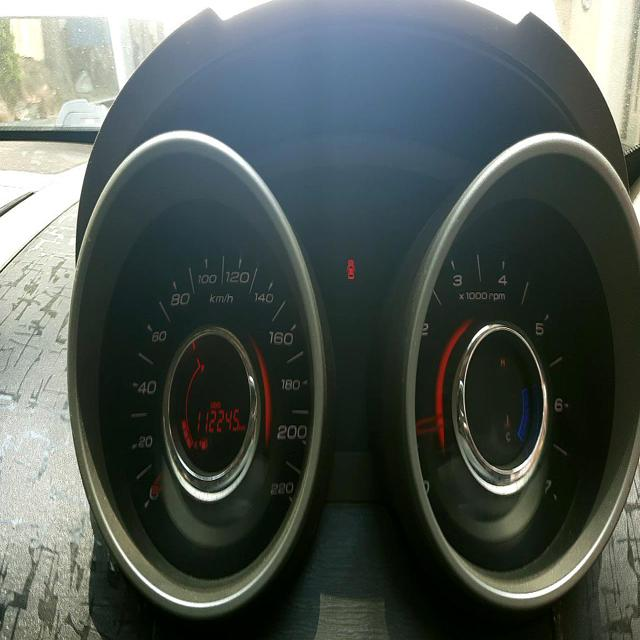odometer: (196, 407, 239, 433)
